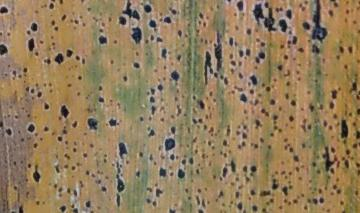tarspot: (310, 1, 328, 45), (202, 48, 214, 88), (213, 28, 223, 75), (264, 7, 277, 34), (251, 2, 265, 27), (321, 144, 333, 172), (129, 26, 143, 47), (120, 1, 136, 19), (162, 137, 178, 153), (339, 117, 350, 140), (113, 172, 125, 193), (117, 139, 129, 159), (32, 162, 42, 184), (87, 117, 99, 135), (59, 103, 72, 119), (26, 35, 36, 55), (145, 125, 157, 140), (324, 173, 332, 195), (170, 69, 181, 84), (175, 168, 187, 181), (141, 2, 154, 14), (53, 51, 65, 64), (25, 122, 37, 135), (277, 19, 288, 33), (108, 117, 120, 129), (131, 8, 141, 22), (42, 100, 52, 114), (115, 192, 123, 209), (225, 123, 233, 140), (248, 74, 259, 86), (147, 17, 158, 29), (28, 20, 39, 32), (4, 127, 15, 139), (258, 188, 271, 198), (160, 46, 168, 62), (158, 166, 168, 178), (97, 35, 109, 45), (1, 42, 9, 57), (115, 159, 123, 174), (236, 1, 246, 13), (71, 120, 81, 132), (1, 4, 10, 17), (254, 118, 263, 131), (232, 84, 246, 92), (301, 20, 311, 31), (117, 15, 127, 26), (162, 15, 173, 25), (309, 43, 320, 53), (86, 104, 96, 115), (330, 88, 339, 100), (167, 5, 179, 14), (307, 101, 316, 113), (230, 159, 237, 174), (221, 165, 229, 178), (149, 104, 157, 117), (298, 123, 306, 136), (238, 93, 248, 103), (131, 60, 141, 70), (47, 1, 57, 11), (270, 182, 281, 191), (285, 7, 292, 21), (198, 98, 205, 112), (175, 103, 182, 117), (155, 187, 163, 199), (236, 201, 244, 213), (281, 185, 289, 197), (291, 34, 299, 46), (54, 162, 61, 175), (351, 80, 358, 93), (84, 199, 93, 209), (240, 164, 249, 174), (148, 95, 157, 105), (63, 151, 73, 160), (166, 205, 177, 213), (237, 70, 245, 81), (60, 12, 68, 23), (191, 135, 199, 146), (72, 188, 80, 199), (70, 202, 78, 213), (238, 47, 245, 59), (258, 51, 267, 60), (42, 124, 51, 133), (292, 154, 301, 163), (259, 39, 267, 49), (180, 157, 188, 167), (51, 25, 61, 33), (149, 32, 157, 42), (207, 125, 215, 135), (283, 68, 291, 78), (317, 195, 325, 205), (217, 188, 225, 198), (243, 174, 251, 184), (228, 35, 234, 48), (194, 194, 200, 207), (327, 7, 334, 18), (170, 125, 177, 136), (176, 29, 183, 40), (116, 101, 123, 112), (65, 48, 73, 57), (81, 55, 87, 67), (145, 185, 153, 194), (17, 204, 25, 213), (32, 141, 40, 150), (268, 98, 277, 106), (245, 46, 251, 58), (187, 156, 195, 165), (282, 53, 291, 61), (197, 11, 205, 20), (232, 24, 241, 32), (122, 74, 129, 84), (36, 90, 43, 100), (243, 28, 253, 35), (353, 130, 360, 140), (203, 37, 210, 47), (136, 149, 143, 159), (147, 152, 154, 162), (78, 1, 88, 8), (65, 186, 72, 196), (61, 125, 68, 135), (233, 190, 240, 200), (317, 102, 324, 112), (78, 179, 85, 189), (169, 169, 175, 180), (157, 142, 163, 153), (200, 197, 206, 208), (156, 84, 164, 92), (21, 66, 29, 74), (190, 117, 198, 125), (43, 57, 51, 65), (137, 115, 145, 123), (271, 112, 279, 120), (250, 204, 258, 212), (328, 100, 335, 109), (59, 204, 66, 213), (149, 87, 156, 96), (168, 153, 175, 162), (197, 116, 204, 125), (306, 123, 313, 132), (158, 153, 167, 160), (111, 39, 120, 46), (96, 27, 105, 34), (73, 18, 80, 27), (248, 188, 257, 195), (194, 167, 201, 176), (211, 173, 218, 182), (331, 112, 338, 121), (99, 185, 108, 192), (204, 113, 213, 120), (135, 170, 141, 180), (321, 56, 327, 66), (186, 126, 192, 136), (253, 56, 261, 63), (332, 1, 340, 8), (5, 30, 12, 38), (98, 96, 105, 104), (151, 200, 159, 207), (76, 74, 83, 82), (296, 46, 304, 53), (289, 99, 296, 107), (250, 165, 257, 173), (288, 115, 295, 123), (229, 59, 236, 67), (236, 60, 244, 67), (221, 139, 229, 146), (276, 64, 284, 71), (81, 151, 88, 159), (264, 85, 271, 93), (241, 132, 248, 140), (278, 42, 285, 50), (159, 116, 166, 124), (176, 54, 183, 62), (284, 80, 292, 87), (327, 124, 334, 132), (332, 154, 339, 162), (294, 165, 301, 173), (272, 119, 279, 127), (11, 68, 18, 76), (69, 164, 76, 172), (62, 163, 69, 171), (199, 151, 206, 159), (208, 5, 215, 13), (27, 161, 32, 172), (347, 45, 353, 54), (344, 159, 350, 168), (265, 110, 271, 119), (344, 7, 350, 16), (156, 35, 162, 44), (322, 119, 328, 128), (312, 197, 318, 206), (311, 160, 317, 169), (292, 197, 298, 206), (272, 123, 278, 132), (109, 58, 115, 67), (134, 49, 140, 58), (190, 94, 196, 103), (253, 97, 259, 106), (280, 168, 286, 177), (224, 77, 229, 87), (197, 208, 207, 213), (199, 36, 204, 46), (336, 159, 341, 169), (329, 146, 336, 153), (56, 135, 63, 142), (271, 76, 278, 83), (268, 131, 275, 138), (335, 188, 342, 195), (351, 142, 358, 149), (66, 82, 73, 89), (50, 41, 57, 48), (29, 87, 36, 94), (12, 114, 19, 121), (57, 186, 64, 193), (41, 82, 48, 89), (186, 22, 193, 29), (299, 192, 306, 199), (219, 73, 225, 81), (338, 45, 344, 53), (145, 197, 151, 205), (72, 146, 78, 154), (50, 18, 56, 26), (235, 129, 241, 137), (212, 96, 218, 104), (300, 142, 306, 150), (258, 135, 264, 143), (288, 145, 294, 153), (283, 144, 289, 152), (334, 176, 340, 184), (24, 85, 30, 93), (88, 141, 94, 149), (18, 159, 24, 167), (12, 184, 18, 192), (158, 105, 164, 113), (312, 78, 320, 84), (260, 205, 266, 213), (277, 203, 283, 211), (196, 186, 202, 194), (274, 169, 280, 177), (108, 98, 114, 106), (229, 179, 235, 187), (343, 64, 348, 73), (202, 20, 207, 29), (175, 86, 180, 95), (223, 151, 228, 160), (34, 51, 40, 58), (74, 55, 81, 61), (228, 52, 234, 59), (229, 68, 235, 75), (255, 36, 261, 43), (260, 107, 266, 114), (354, 94, 360, 101), (144, 38, 150, 45), (196, 20, 202, 27), (284, 93, 291, 99), (306, 89, 312, 96), (345, 148, 351, 155), (353, 189, 359, 196), (306, 197, 312, 204), (297, 176, 304, 182), (193, 148, 199, 155), (99, 21, 106, 27), (78, 13, 84, 20), (47, 81, 53, 88), (52, 182, 58, 189), (281, 198, 288, 204), (248, 87, 254, 94), (242, 124, 248, 131), (236, 123, 242, 130), (186, 194, 192, 201), (302, 116, 308, 123), (271, 177, 278, 183), (279, 159, 285, 166), (184, 143, 190, 150), (54, 153, 60, 160), (124, 159, 131, 165), (84, 93, 90, 100), (252, 64, 259, 70), (260, 82, 266, 89), (180, 42, 186, 49), (237, 183, 243, 190), (324, 207, 331, 213), (289, 125, 296, 131), (329, 134, 336, 140), (213, 71, 218, 79), (224, 1, 234, 5), (1, 119, 5, 129), (241, 140, 246, 148), (253, 142, 258, 150), (335, 53, 340, 61), (356, 27, 360, 37), (208, 39, 213, 47), (208, 89, 213, 97), (195, 28, 200, 36), (356, 168, 360, 178), (355, 160, 360, 168), (277, 127, 282, 135), (107, 16, 112, 24), (84, 169, 89, 177), (35, 199, 40, 207), (207, 159, 212, 167), (91, 172, 96, 180), (235, 175, 240, 183), (220, 200, 225, 208), (97, 84, 103, 90), (356, 107, 360, 116), (282, 136, 288, 142), (152, 161, 158, 167), (75, 90, 81, 96), (80, 21, 86, 27), (68, 18, 74, 24), (49, 34, 55, 40), (39, 39, 45, 45), (25, 113, 31, 119), (143, 51, 149, 57), (296, 76, 302, 82), (297, 62, 303, 68), (256, 92, 262, 98), (351, 19, 357, 25), (356, 57, 360, 66), (287, 170, 293, 176), (102, 158, 108, 164), (96, 178, 102, 184), (34, 82, 40, 88), (210, 152, 216, 158), (58, 1, 65, 6), (237, 143, 242, 150), (170, 113, 175, 120), (339, 198, 344, 205), (267, 144, 272, 151), (331, 184, 338, 189), (287, 199, 292, 206), (173, 95, 178, 102), (152, 68, 159, 73), (294, 69, 301, 74), (292, 55, 297, 62), (317, 187, 322, 194), (242, 108, 247, 115), (88, 208, 95, 213), (72, 140, 77, 147), (216, 128, 221, 135), (277, 106, 283, 111), (33, 9, 38, 15), (48, 88, 54, 93), (11, 76, 16, 82), (4, 72, 9, 78), (20, 136, 25, 142), (11, 160, 17, 165), (57, 193, 62, 199), (24, 177, 29, 183), (162, 64, 167, 70), (246, 195, 252, 200), (184, 187, 189, 193), (342, 17, 347, 23), (183, 32, 188, 38), (299, 107, 305, 112), (64, 140, 69, 146), (307, 178, 313, 183), (230, 89, 235, 95), (210, 145, 216, 150), (227, 204, 233, 209), (41, 199, 45, 206), (207, 139, 211, 146), (268, 198, 275, 202), (207, 104, 211, 111), (340, 209, 347, 213), (357, 139, 360, 148), (302, 204, 307, 209), (17, 74, 22, 79), (215, 4, 220, 9), (316, 169, 321, 174), (229, 200, 234, 205), (329, 1, 337, 4), (6, 63, 10, 69), (25, 189, 29, 195), (103, 151, 107, 157), (284, 174, 288, 179), (219, 149, 222, 155), (1, 31, 4, 36), (211, 105, 212, 114)
